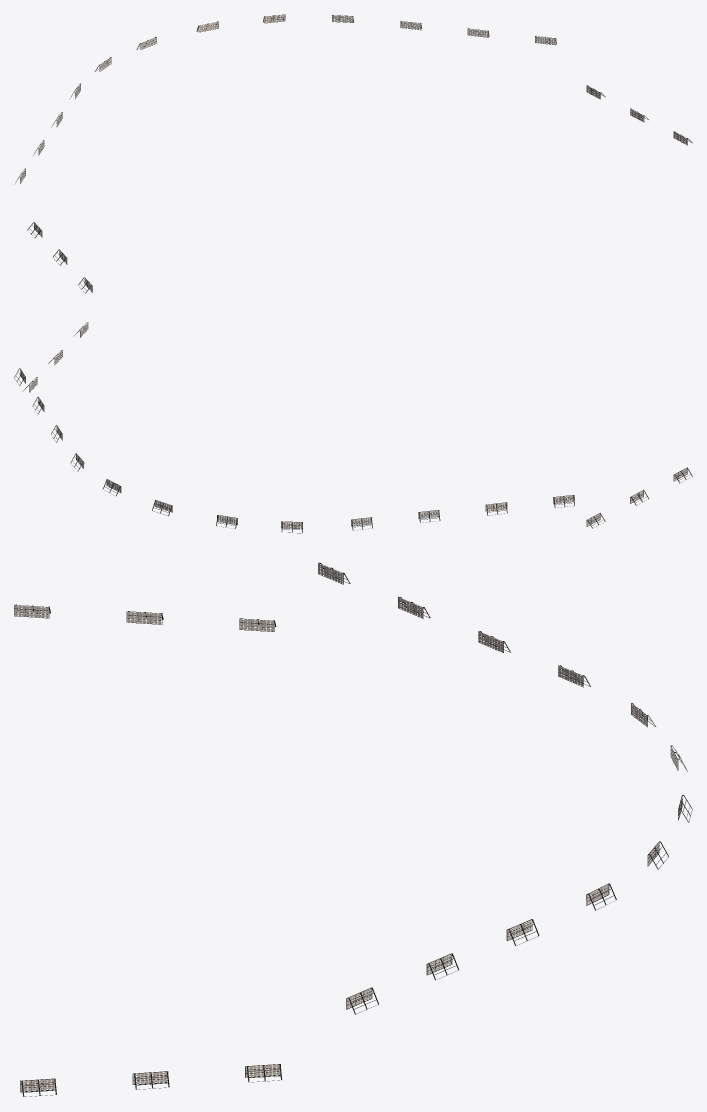
The model's file is Light_Back.fbx.
3 views of the same model, one above another, from view 1: azimuth 30°, elevation 25°; view 2: azimuth 150°, elevation 25°; view 3: azimuth 270°, elevation 25° (orthographic). The views are drawn at different scales.
Visible parts, largest first — view 1: Light_Back; view 2: Light_Back; view 3: Light_Back.
Part boxes in pixels (x1=…): Light_Back: x1=14, y1=14, x2=692, y2=293; Light_Back: x1=14, y1=322, x2=692, y2=533; Light_Back: x1=14, y1=562, x2=692, y2=1096.
Size of the model in its own units: 9006 by 604 by 5303.
Materials: 1 (1 with a texture image).
